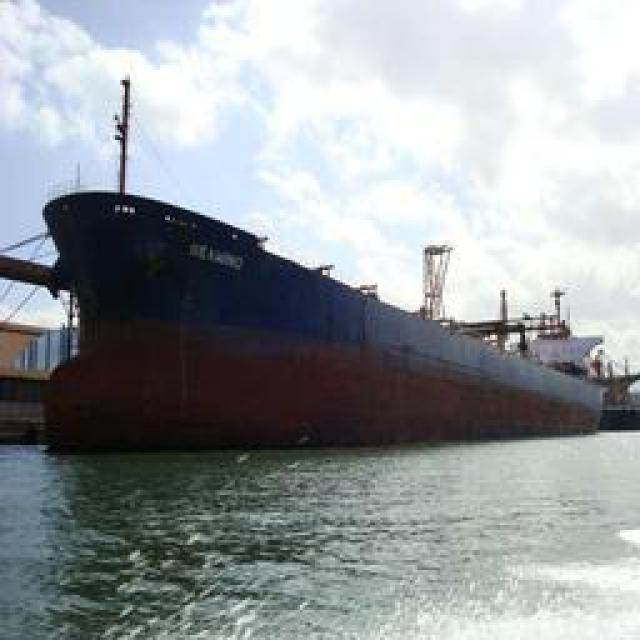Ship: (30, 181, 613, 449)
